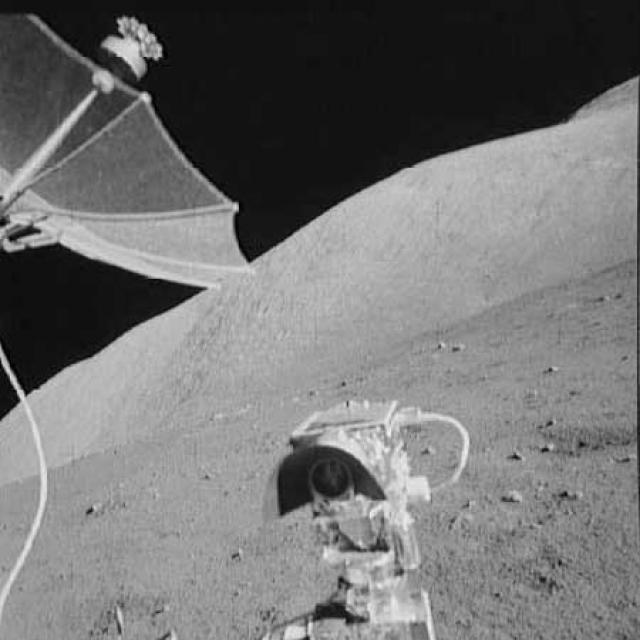artifact: (0, 0, 275, 308), (253, 387, 469, 638), (0, 346, 60, 636)
crater: (511, 412, 624, 458)
rock: (434, 335, 472, 353), (556, 485, 585, 504), (503, 483, 523, 507), (535, 364, 562, 374)
